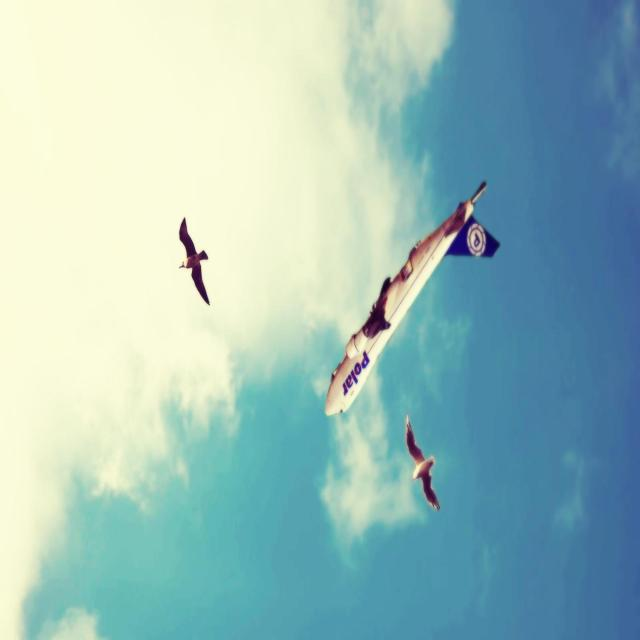airplane: (324, 179, 500, 417)
